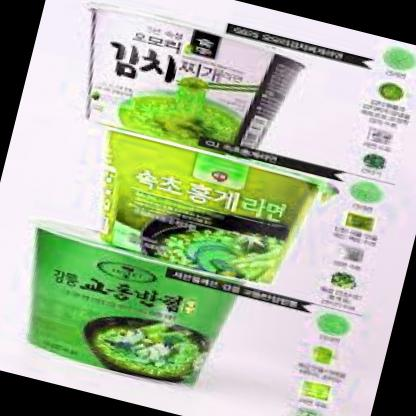Ramen: (0, 214, 263, 404), (75, 124, 330, 298), (60, 0, 308, 170)
